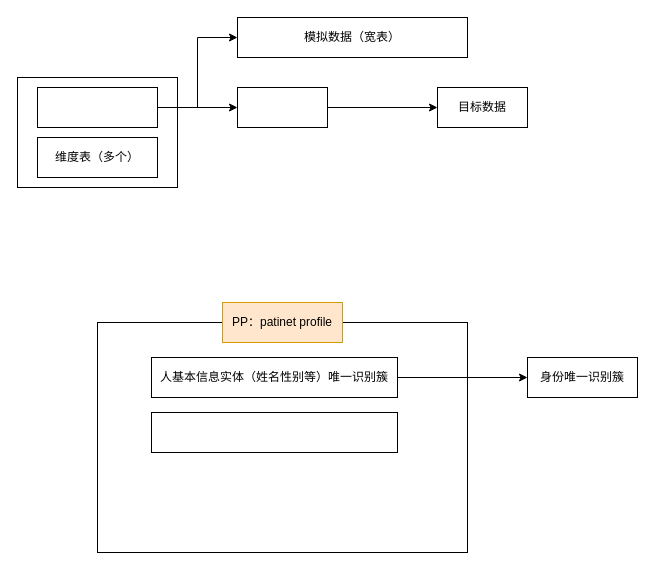
Some shapes in this 655 by 570 pixel diagram are drawn without their labels. The shapes that lost their labels are listed below. From the top down, each one's centre as x and y in pixels, then its label:
At point (97, 107): "主题域数据实体".
At point (282, 107): "事实表".
At point (274, 432): "事件时间实体 事件唯一识别（多主题关联）".
